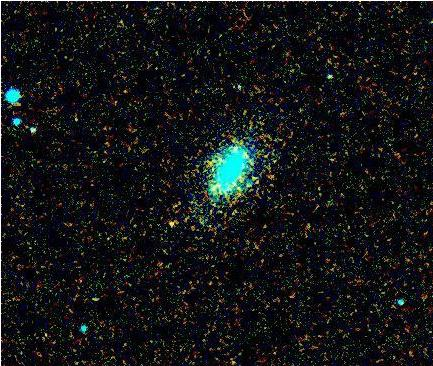star: (155, 210, 185, 240)
